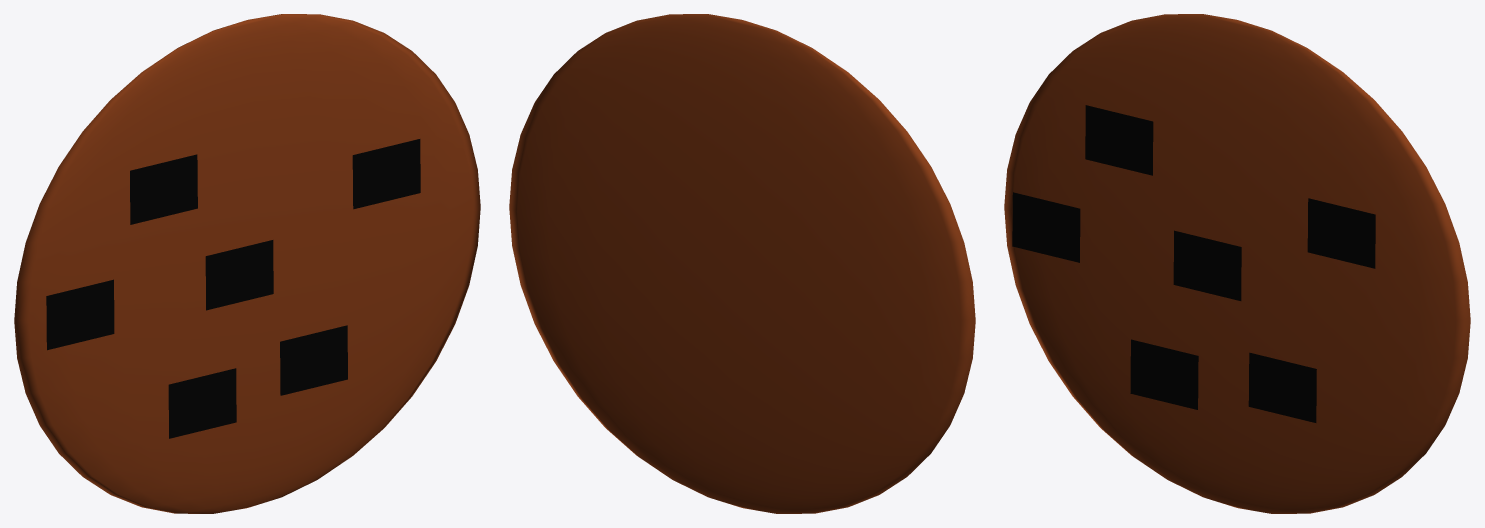
Rendered from cockyeprep.fbx.
3 views of the same model, side by side, from view 1: azimuth 30°, elevation 25°; view 2: azimuth 150°, elevation 25°; view 3: azimuth 330°, elevation 25° (orthographic).
Visible parts, largest first — view 1: pSphere2; view 2: pSphere2; view 3: pSphere2.
Boxes of the visible parts, left/top/right/bottom form: pSphere2: left=14, top=14, right=480, bottom=513; pSphere2: left=509, top=14, right=975, bottom=513; pSphere2: left=1004, top=14, right=1470, bottom=513.
Size of the model in its own units: 257 by 257 by 26.93.
